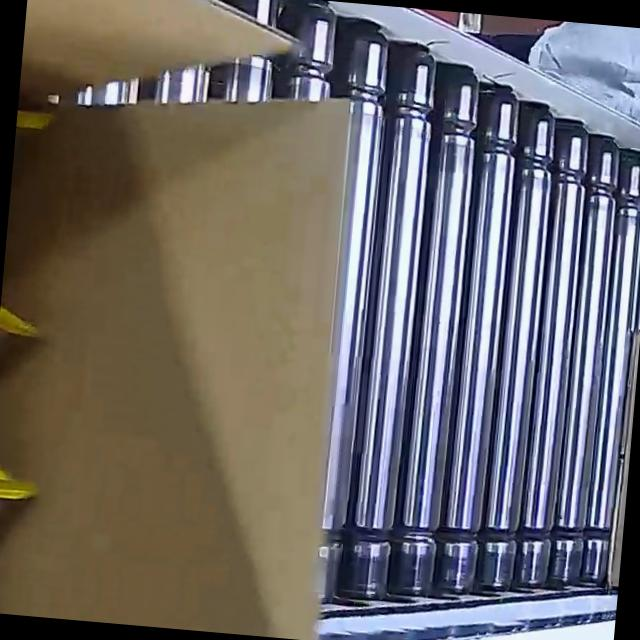salted: (0, 73, 101, 618)
